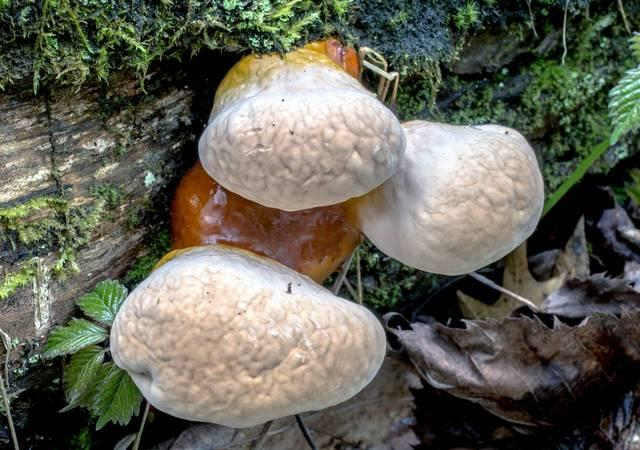poisonous_mushroom: (195, 40, 546, 302), (107, 242, 387, 431)
